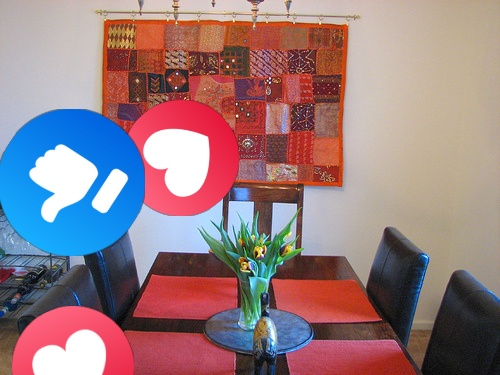like: (0, 109, 145, 256)
love: (123, 100, 239, 216), (12, 306, 134, 375)
